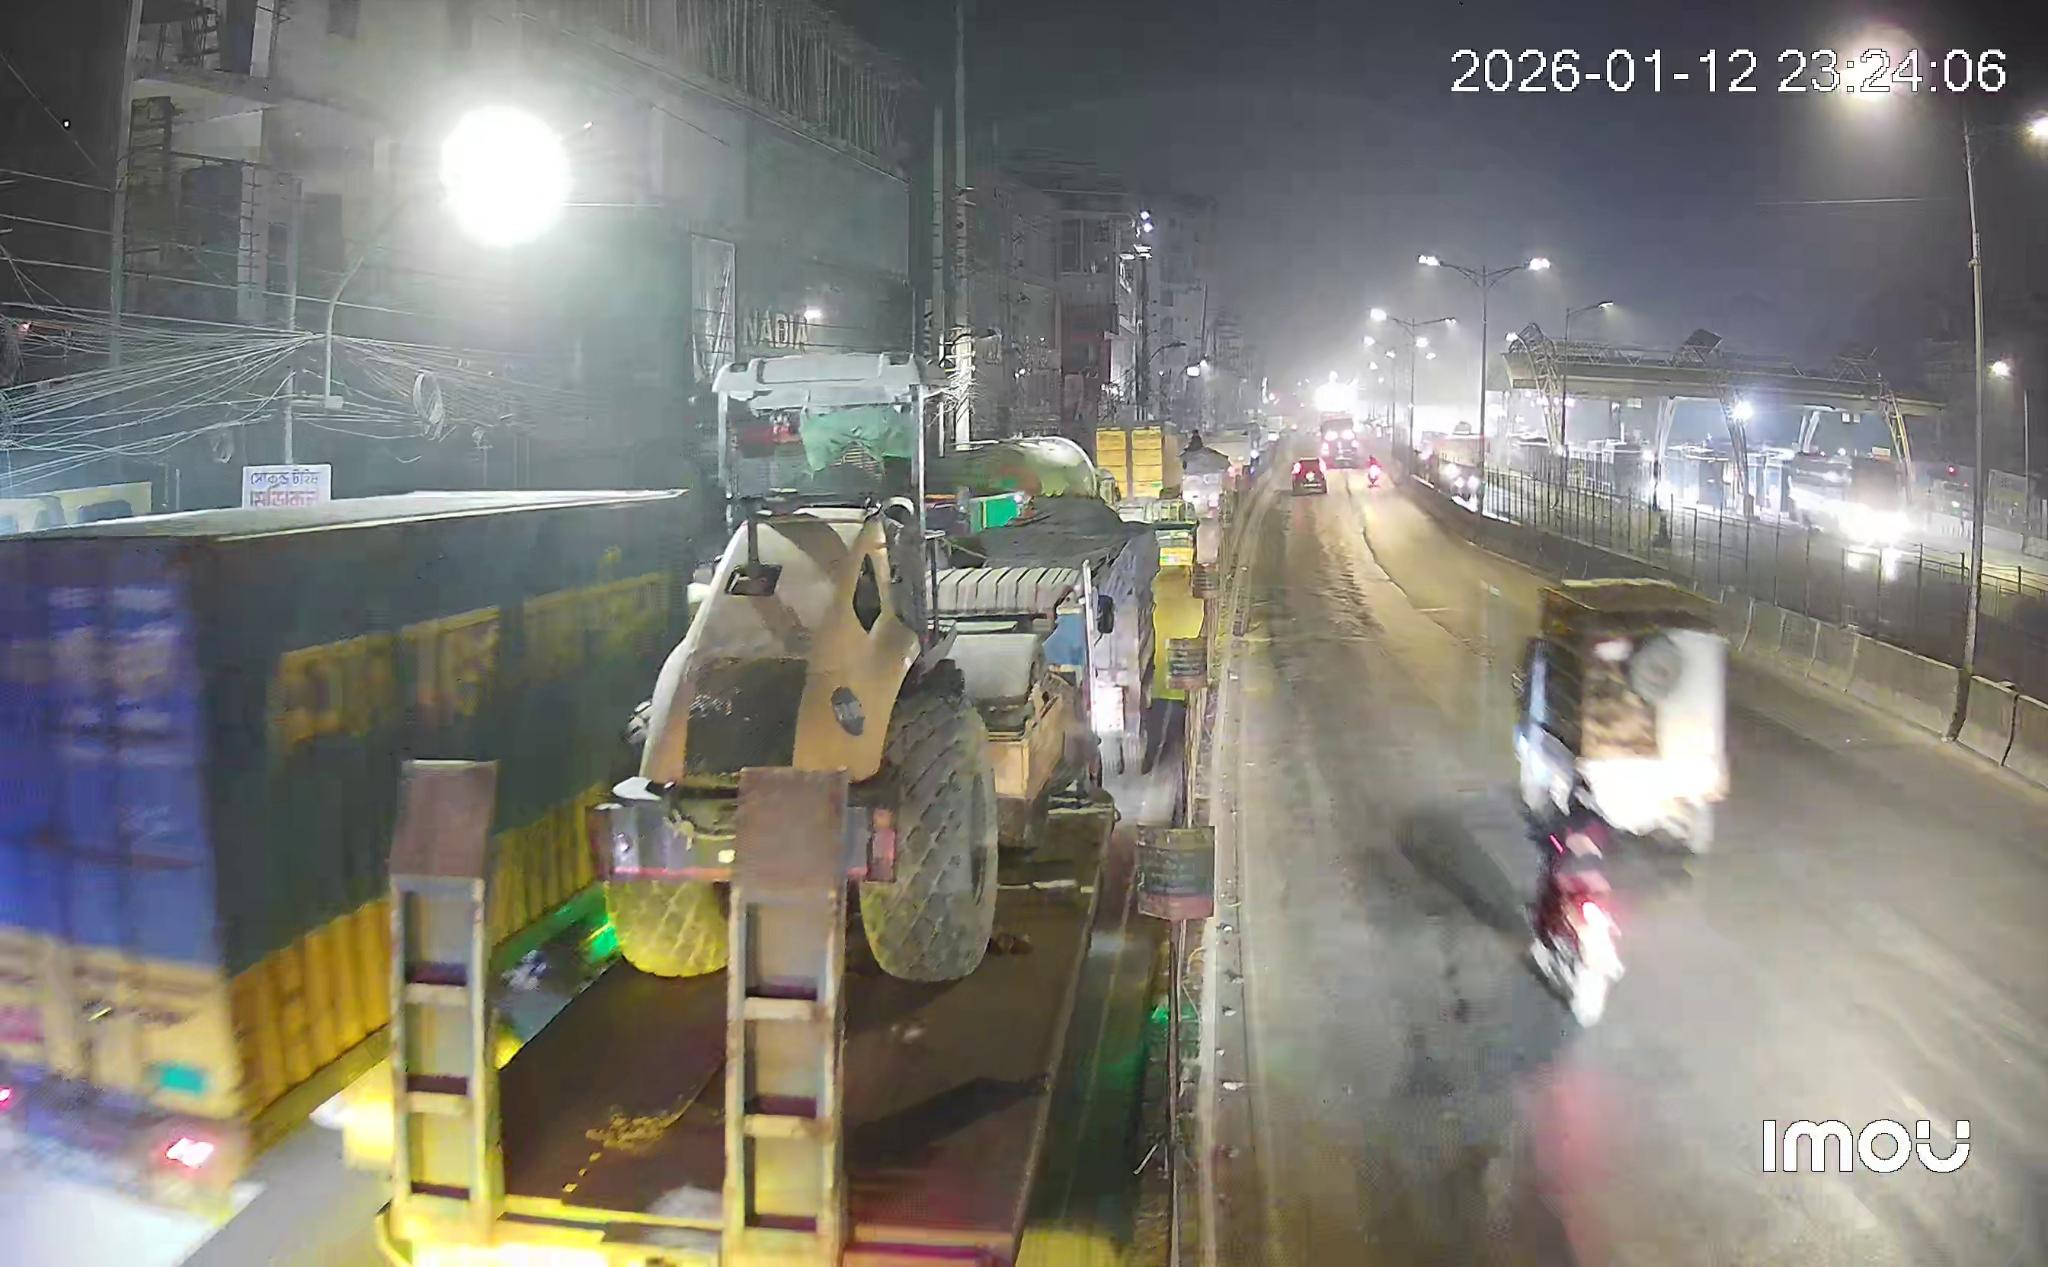Motorcycle: (1530, 781, 1624, 1027)
Truck: (378, 354, 1157, 1267), (0, 490, 699, 1214), (1515, 579, 1728, 853)
